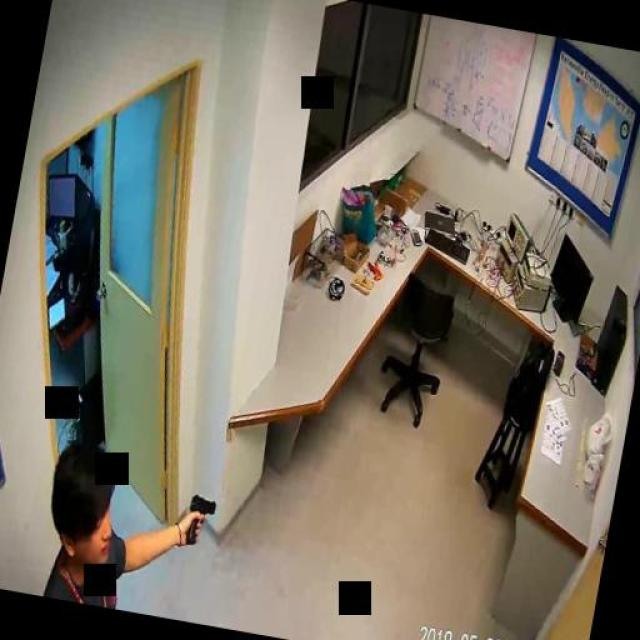gun: (182, 490, 216, 548)
